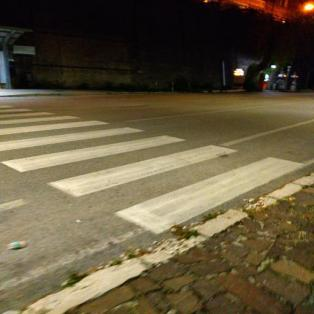Paso de Cebra: (1, 131, 245, 212)
